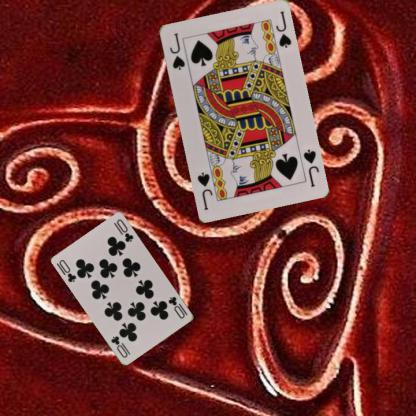10c: (54, 257, 78, 284), (166, 294, 186, 320)
Js: (166, 30, 186, 71), (301, 146, 320, 188)
